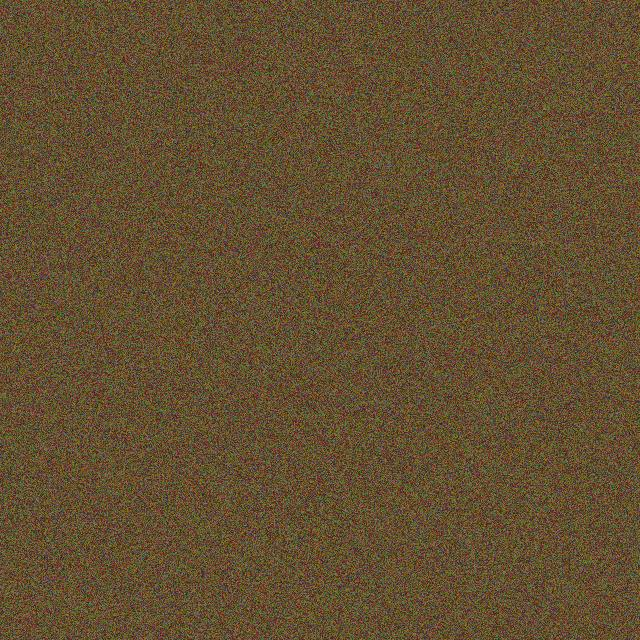human: (207, 305, 256, 355)
